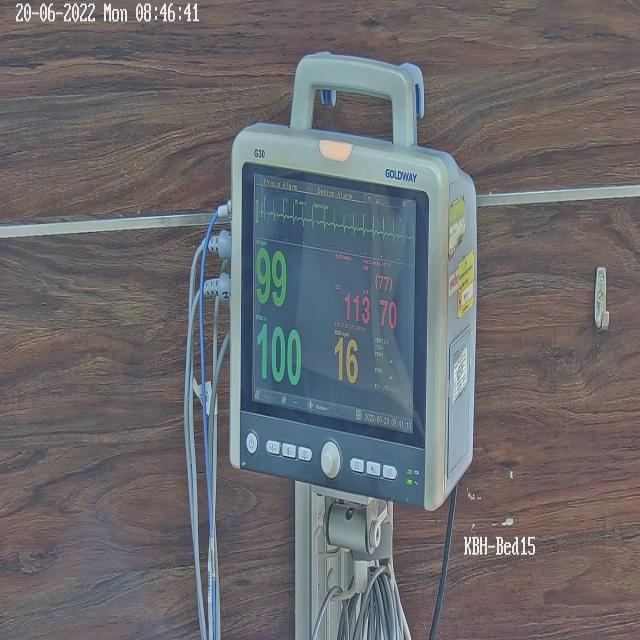Monitor: (157, 55, 482, 640)
